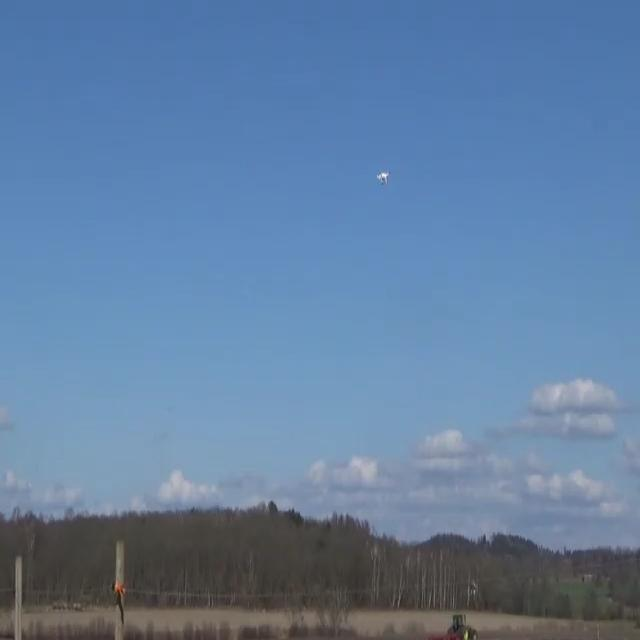Drone: (369, 156, 395, 196)
